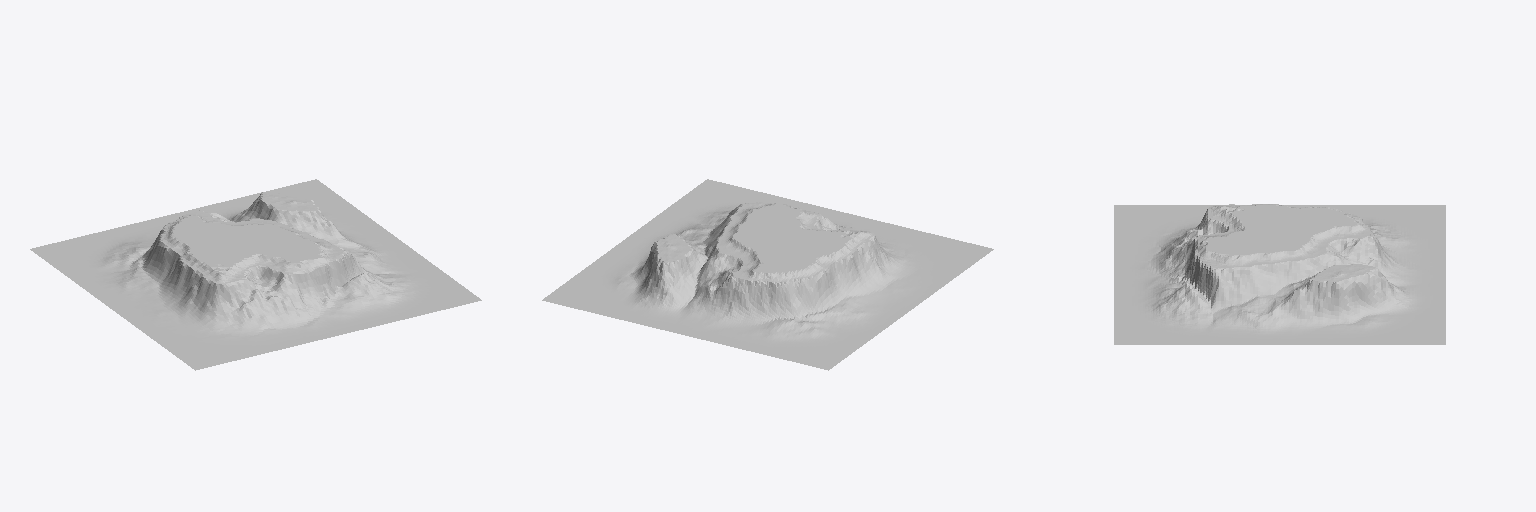
Rendered from PlanetTerrainMesaScaled.obj.
3 views of the same model, side by side, from view 1: azimuth 30°, elevation 25°; view 2: azimuth 150°, elevation 25°; view 3: azimuth 270°, elevation 25° (orthographic).
Visible parts, largest first — view 1: MarsTerrain_6:Landscape_001_Planet_Surface_Material; view 2: MarsTerrain_6:Landscape_001_Planet_Surface_Material; view 3: MarsTerrain_6:Landscape_001_Planet_Surface_Material.
Boxes of the visible parts, x1=… form: MarsTerrain_6:Landscape_001_Planet_Surface_Material: x1=30, y1=179, x2=481, y2=370; MarsTerrain_6:Landscape_001_Planet_Surface_Material: x1=542, y1=179, x2=993, y2=370; MarsTerrain_6:Landscape_001_Planet_Surface_Material: x1=1114, y1=204, x2=1445, y2=344.
Size of the model in its own units: 160 by 20 by 160.